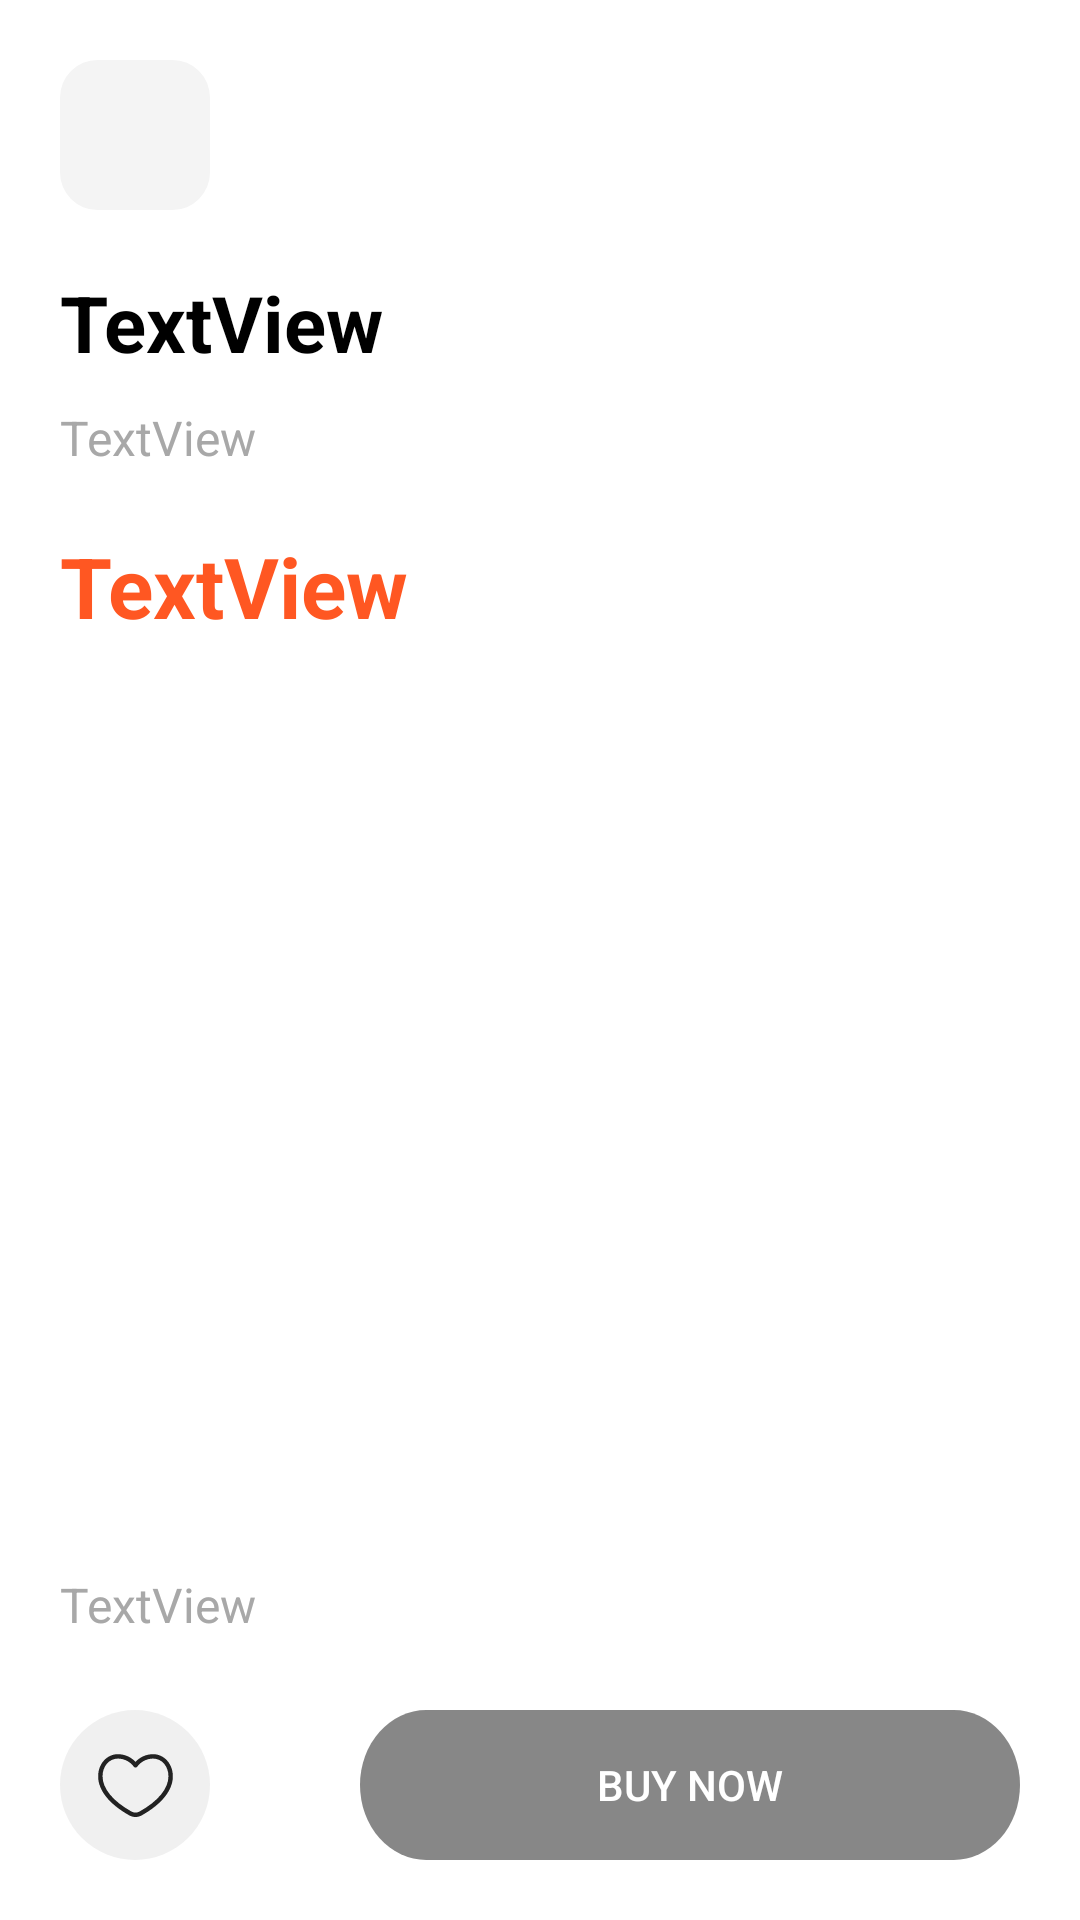

Point at icon controls on the screen. Image size 1080px×1920px, points as [x,y].
favorite: [135,1785]
